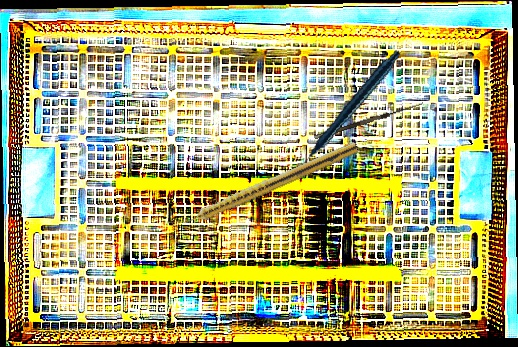Handpiece: (270, 49, 420, 171), (174, 138, 359, 232)
Hook Surgical: (312, 96, 424, 140)
